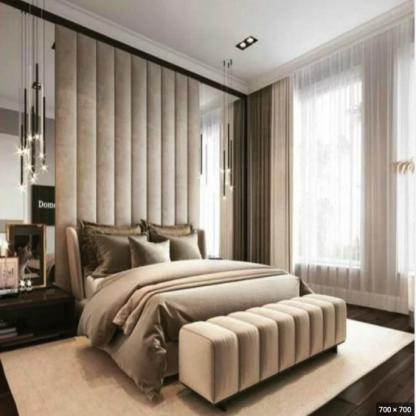Bed: (61, 223, 350, 396)
Curtains: (243, 10, 415, 322)
Wall Panel: (2, 1, 248, 270)
